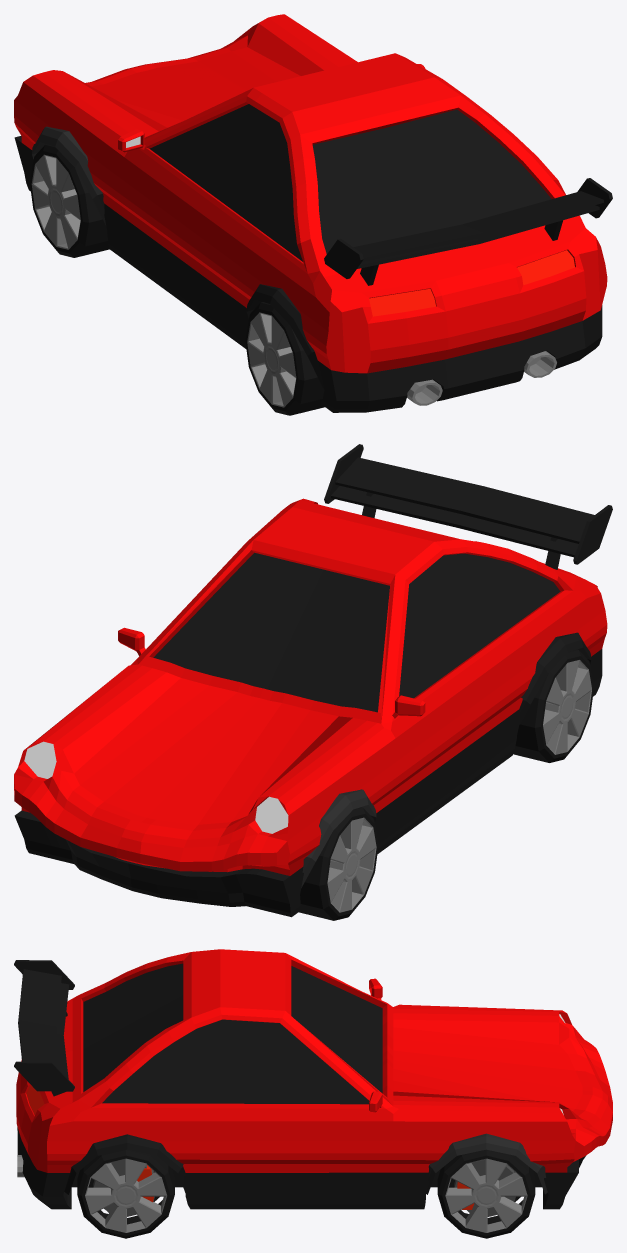
File: porsche.fbx
3 views of the same model, one above another, from view 1: azimuth 30°, elevation 25°; view 2: azimuth 150°, elevation 25°; view 3: azimuth 270°, elevation 25° (orthographic). The views are drawn at different scales.
Visible parts, largest first — view 1: Cube, Spoiler, Cylinder.006, Cylinder.005, WheelHolder, Auspuff; view 2: Cube, Spoiler, Cylinder.005, Cylinder.006, WheelHolder; view 3: Cube, Cylinder.004, Cylinder.003, Spoiler, WheelHolder, Brake.001, Brake.
Boxes of the visible parts, box(x1,y1,x2,y2) form: Cube: box(14, 14, 607, 412); Spoiler: box(324, 178, 612, 285); Cylinder.006: box(29, 144, 109, 257); Cylinder.005: box(245, 302, 324, 415); WheelHolder: box(32, 126, 323, 388); Auspuff: box(407, 351, 556, 405); Cube: box(14, 498, 607, 917); Spoiler: box(324, 444, 612, 569); Cylinder.005: box(513, 649, 593, 762); Cylinder.006: box(299, 807, 378, 920); WheelHolder: box(301, 632, 591, 887); Cube: box(16, 949, 612, 1209); Cylinder.004: box(437, 1149, 535, 1238); Cylinder.003: box(77, 1149, 174, 1238); Spoiler: box(14, 960, 74, 1096); WheelHolder: box(64, 1133, 547, 1194); Brake.001: box(449, 1159, 520, 1216); Brake: box(88, 1159, 159, 1216).
Bounding box in the file's own units: 166 × 125 × 337.
